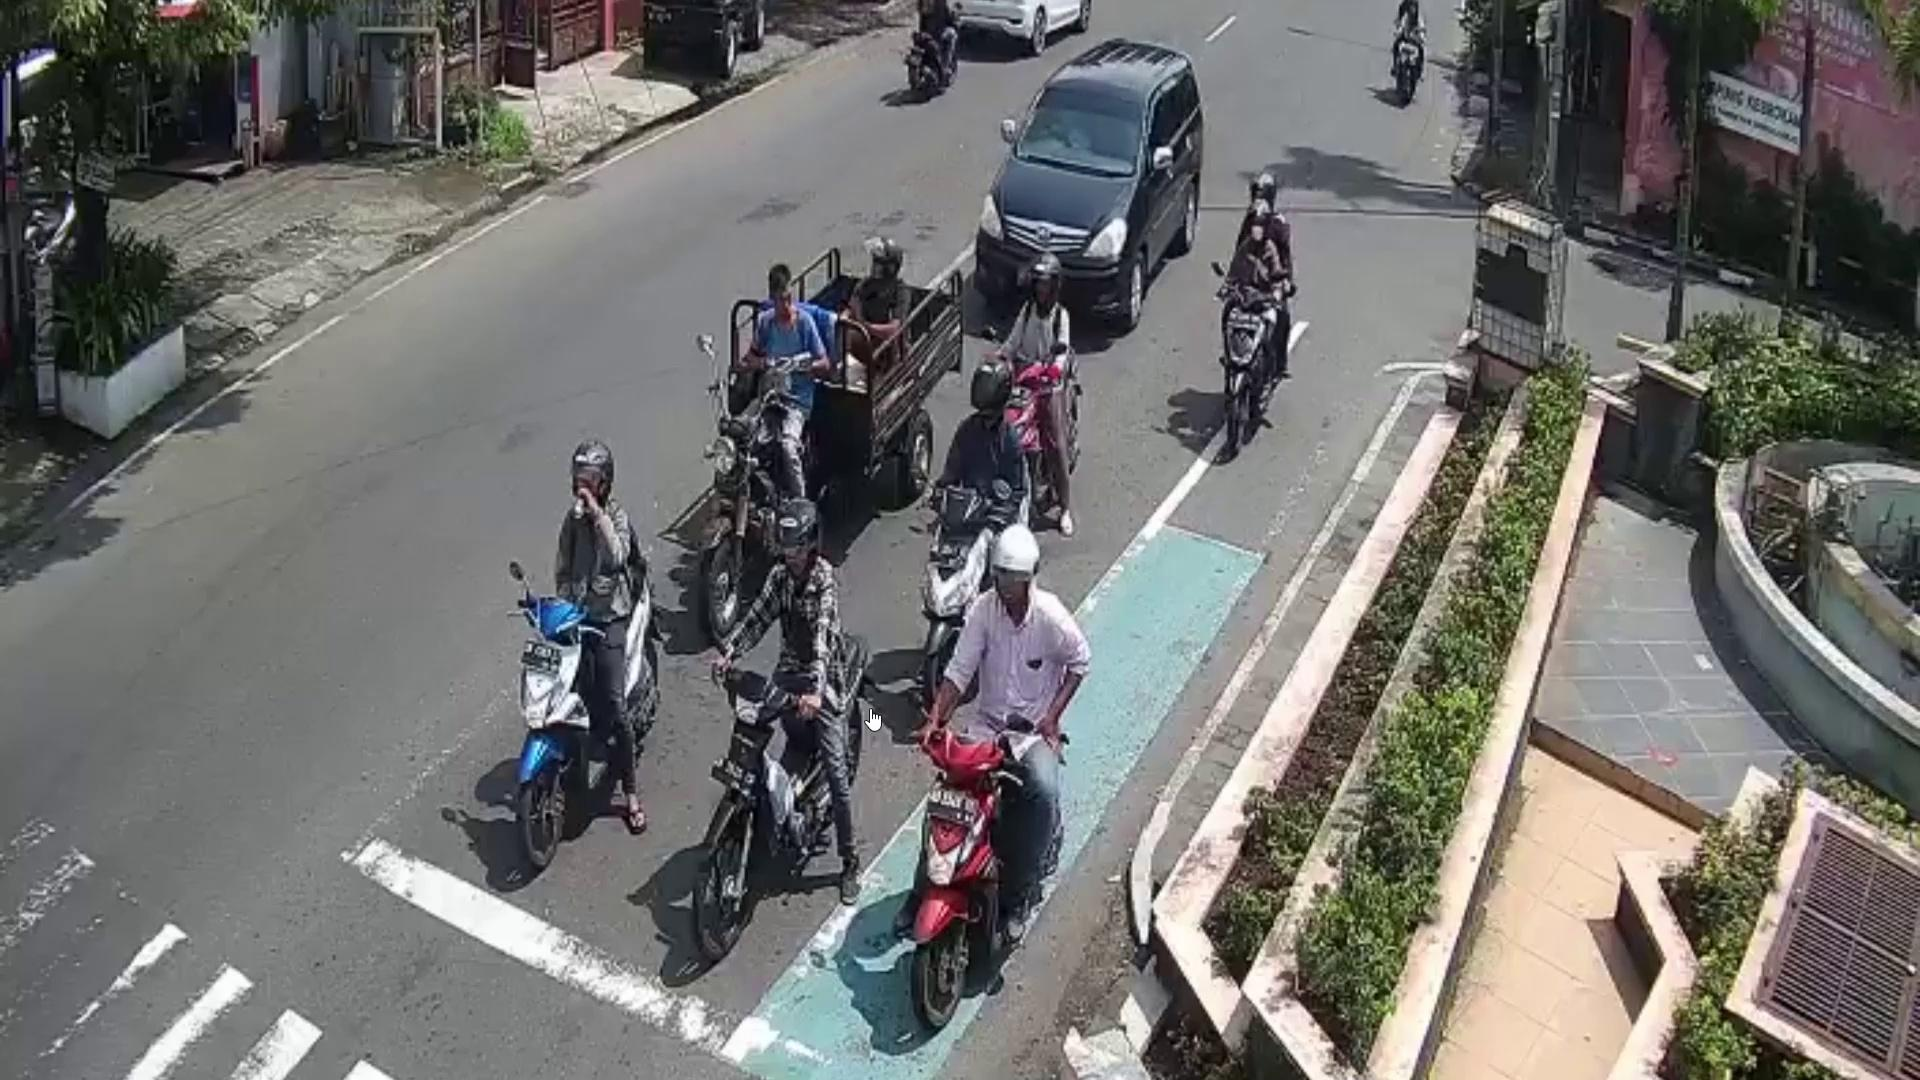car: (977, 38, 1201, 334)
motorbike: (691, 632, 872, 949), (901, 727, 1059, 1040), (517, 542, 661, 884), (700, 405, 812, 649), (924, 484, 985, 696), (1221, 289, 1275, 462)
